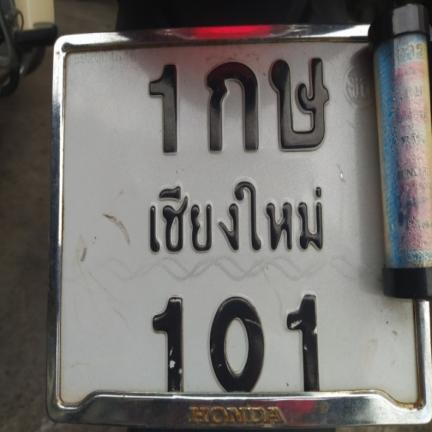0: (199, 284, 270, 397)
1: (281, 281, 326, 395), (139, 55, 184, 157), (148, 288, 188, 394)
A01: (199, 52, 265, 157)
A39: (269, 52, 333, 152)
CMI: (141, 169, 325, 265)
